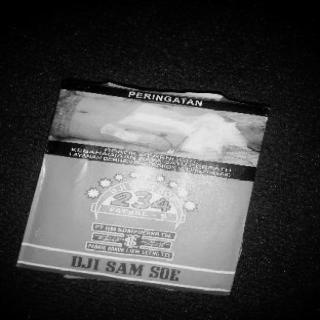objects: (17, 78, 268, 296)
